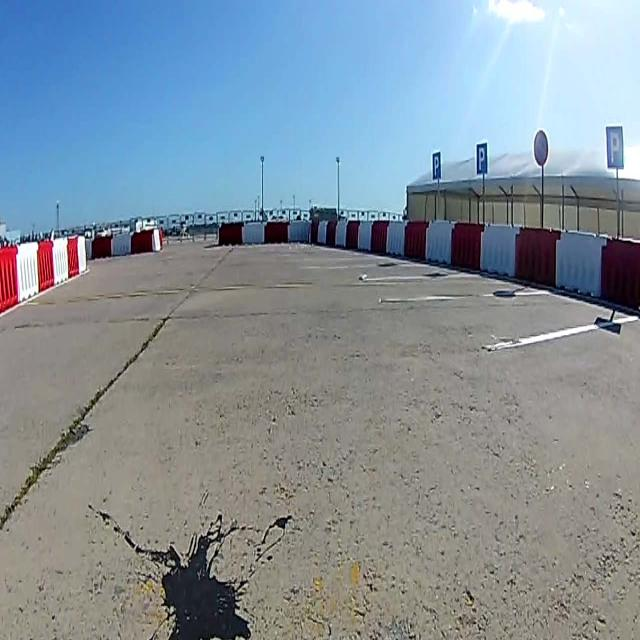park: (606, 127, 624, 169), (476, 144, 486, 174), (432, 152, 441, 180)
parkyasak: (533, 130, 549, 167)
